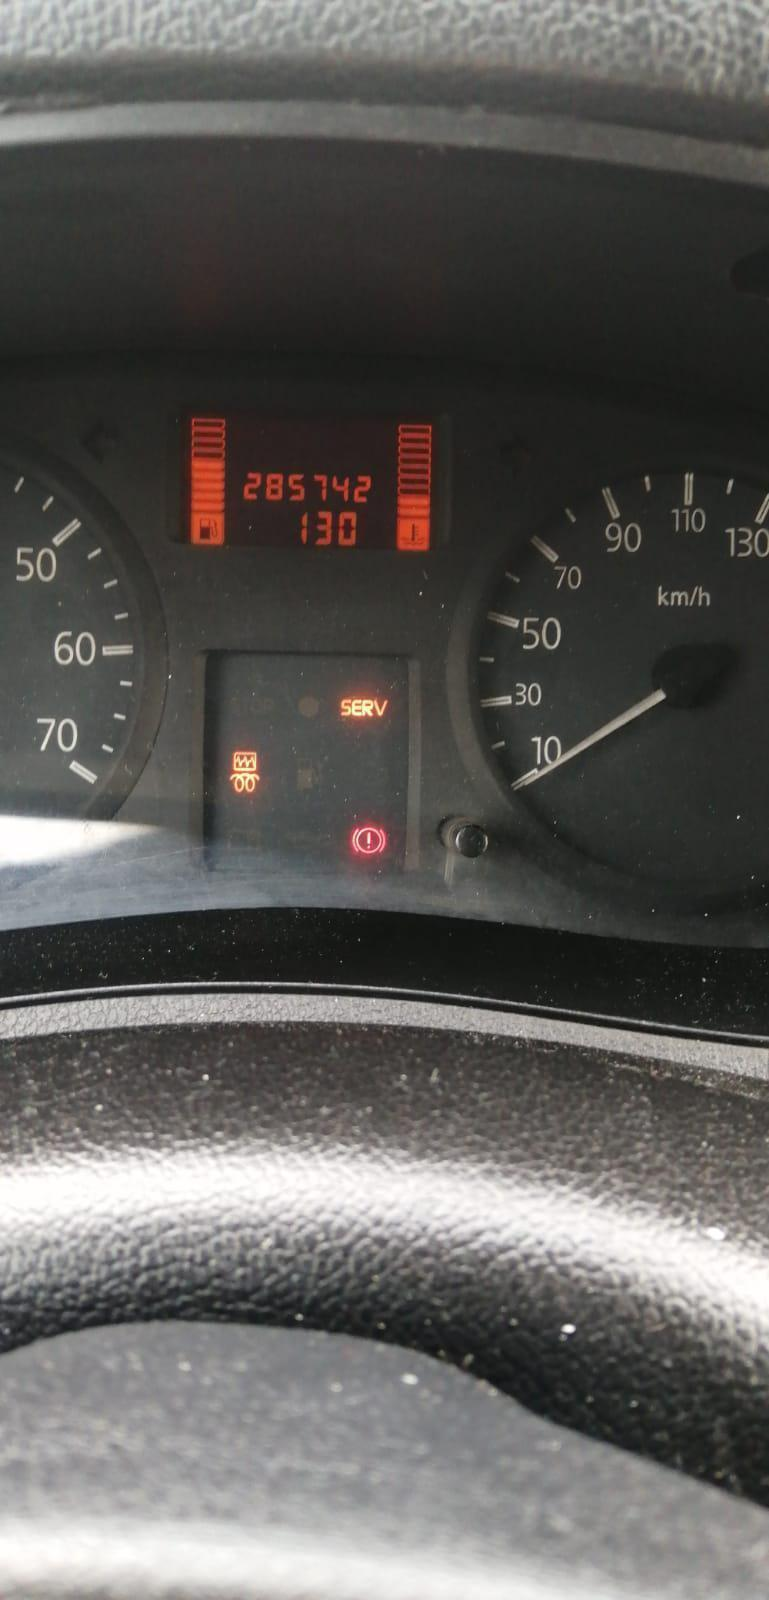0: (337, 511, 357, 545)
1: (300, 510, 308, 544)
2: (242, 471, 261, 500), (353, 476, 371, 503)
3: (314, 510, 332, 544)
4: (331, 474, 349, 503)
5: (287, 473, 305, 501)
7: (313, 474, 328, 501)
8: (265, 472, 281, 500)
odometer: (177, 405, 444, 552)
